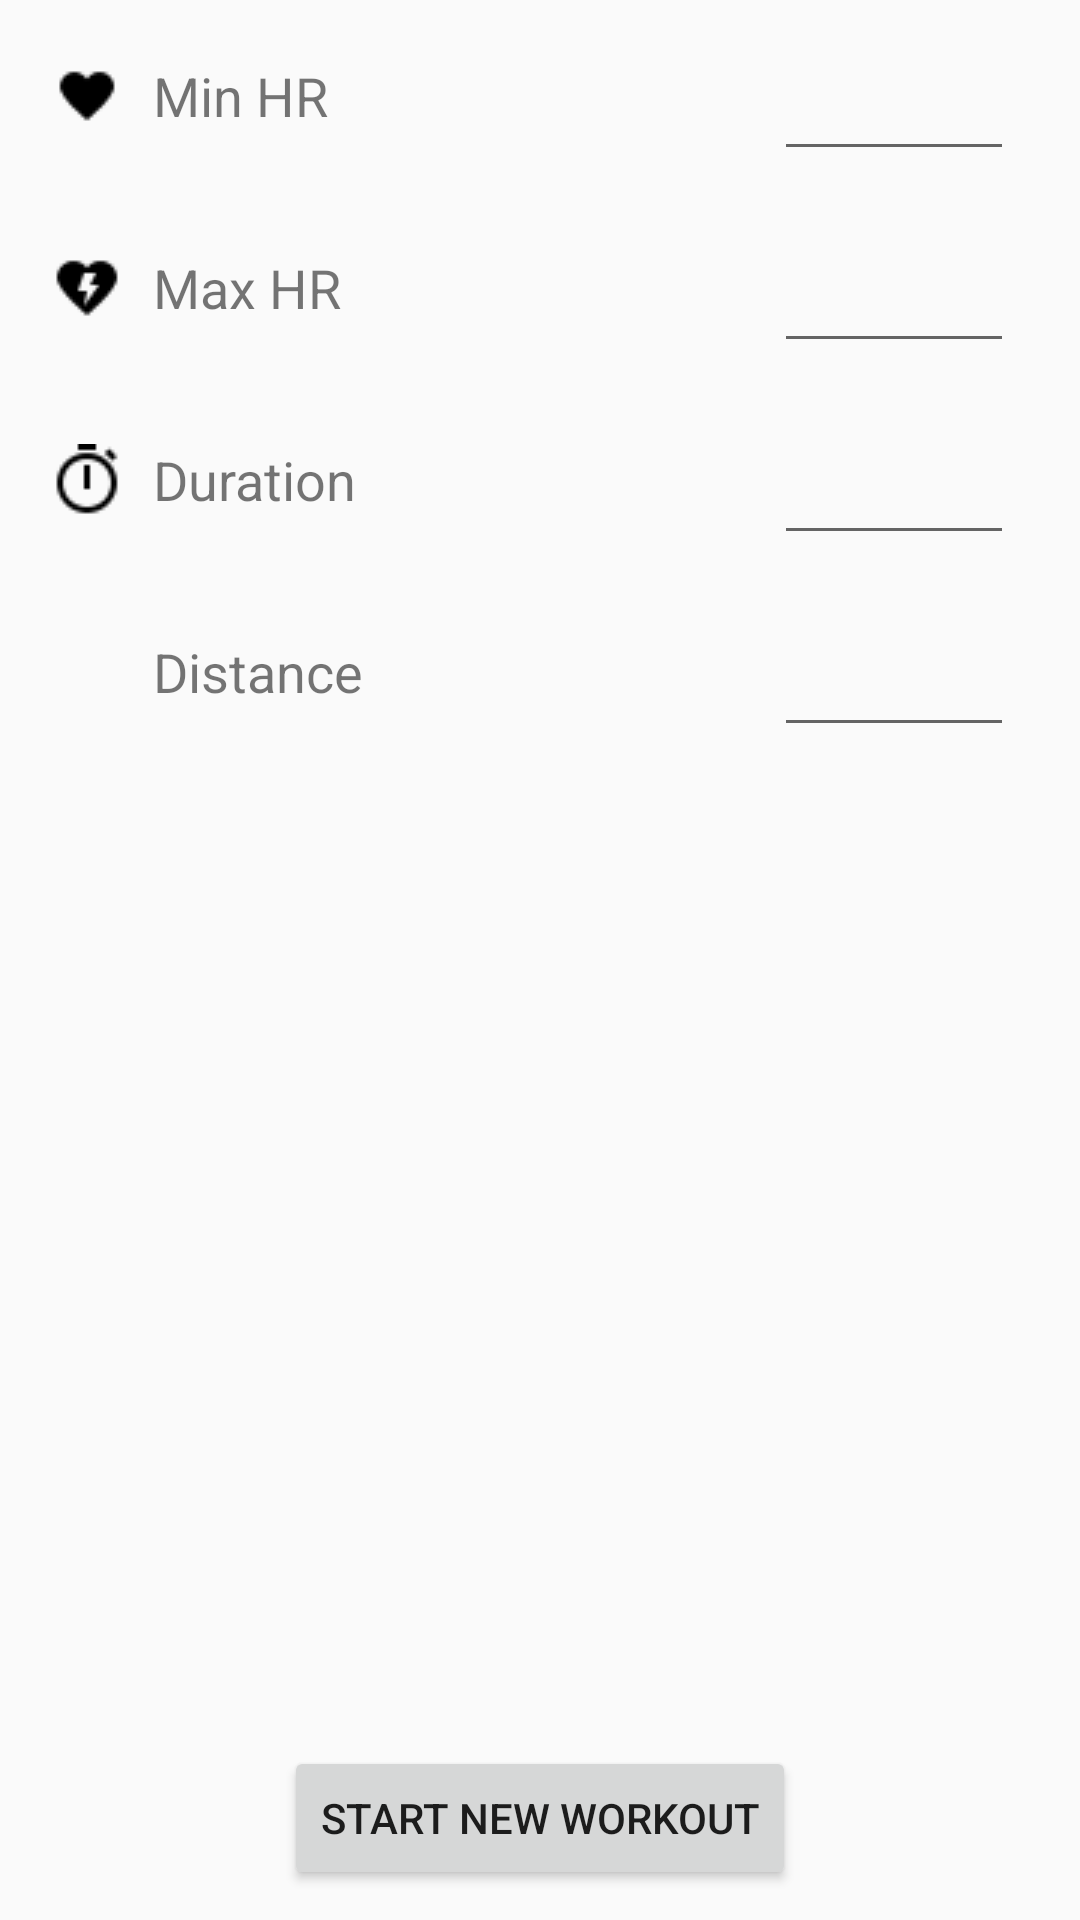

Locate icon controls on the screen. Image size 1080*1920, boxes as (x1, y1, x2, y2).
heart: (59, 71, 115, 121)
heart thunder: (56, 260, 118, 316)
time: (56, 444, 118, 514)
